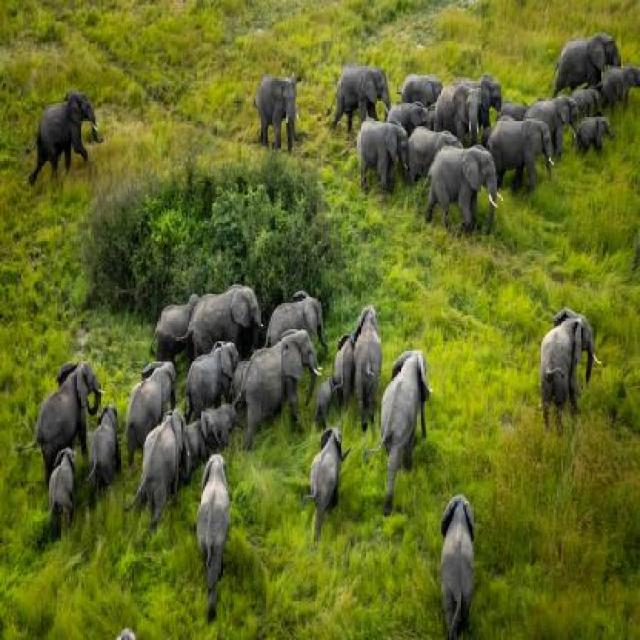elephant: (364, 346, 439, 497), (539, 288, 601, 447), (238, 328, 322, 443), (430, 479, 490, 635), (36, 346, 116, 442), (32, 77, 97, 192), (172, 325, 250, 404), (180, 278, 275, 338), (489, 119, 569, 188), (434, 145, 501, 226), (111, 358, 175, 442), (355, 288, 396, 417), (242, 57, 296, 154), (202, 452, 230, 622), (383, 105, 459, 167), (353, 118, 410, 198), (150, 390, 184, 519), (330, 46, 384, 125), (137, 292, 194, 357), (186, 392, 248, 450), (272, 280, 330, 335), (559, 28, 612, 88), (312, 427, 345, 518), (46, 424, 72, 539), (595, 48, 640, 110), (337, 325, 365, 421), (92, 396, 116, 502), (569, 116, 614, 172), (534, 83, 572, 148), (442, 80, 484, 129), (410, 60, 444, 114), (574, 71, 601, 126), (394, 86, 420, 139), (317, 374, 334, 424)
